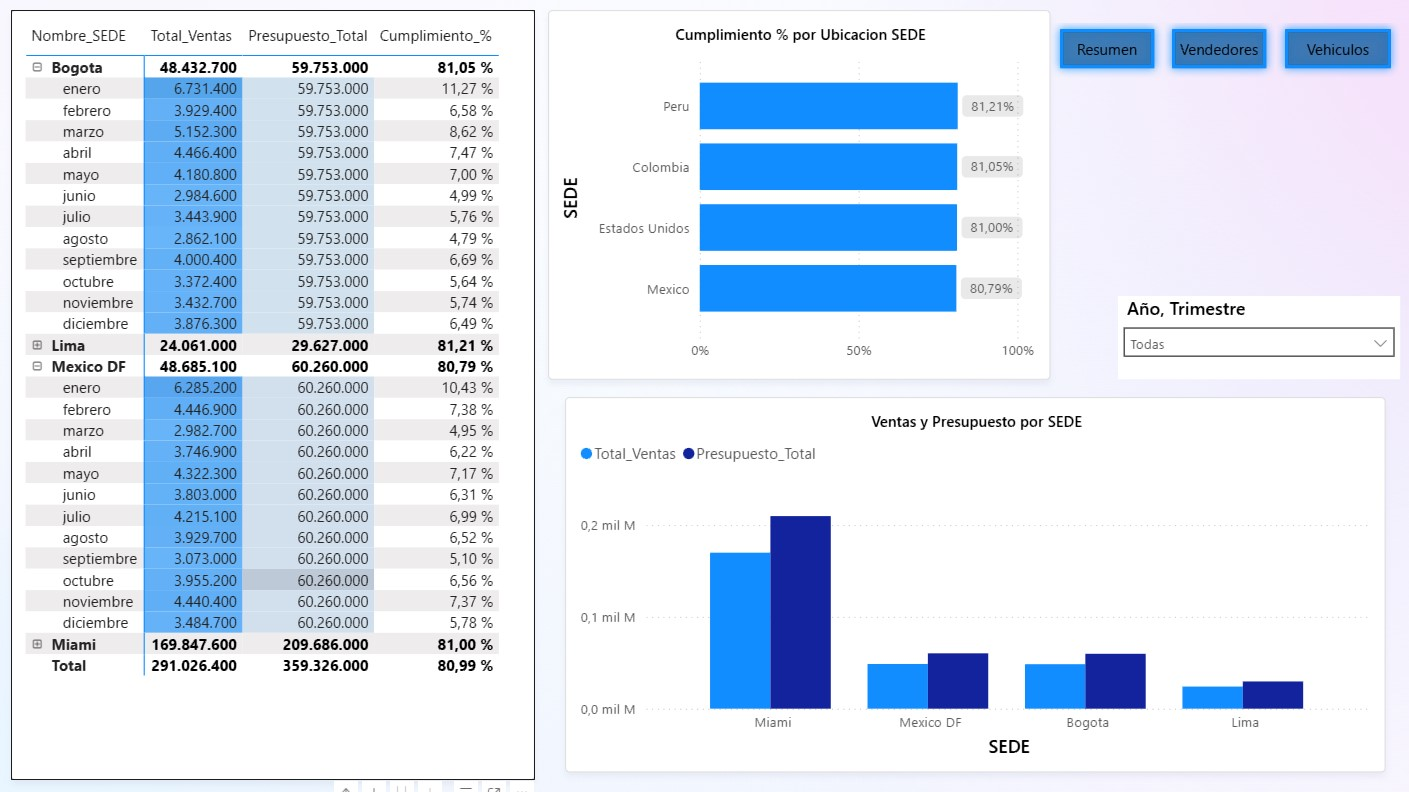

The dashboard page shown, as its layout file describes it:
{"tool":"powerbi","page":{"name":"SEDE_Presupuestos","canvas":[1280,720],"ordinal":2},"visuals":[{"type":"lineClusteredColumnComboChart","title":"Ventas y Presupuesto por SEDE","fields":{"Category":["SEDES.Nombre_SEDE"],"Y":["MEDIDAS.Total_Ventas","MEDIDAS.Presupuesto_Total"]},"box":[514.2,360.2,730.3,333.6],"z":0},{"type":"barChart","title":"Cumplimiento % por Ubicacion SEDE","fields":{"Category":["SEDES.Ubicacion_SEDE"],"Y":["MEDIDAS.Cumplimiento_%"]},"box":[499.2,16,447.4,328.7],"z":1000},{"type":"pivotTable","fields":{"Rows":["SEDES.Nombre_SEDE","Calendario.InicioMes.Variación.Jerarquía de fechas.Mes"],"Values":["MEDIDAS.Total_Ventas","MEDIDAS.Presupuesto_Total","MEDIDAS.Cumplimiento_%"]},"box":[21.7,15.8,465.8,684.9],"z":2000},{"type":"slicer","fields":{"Values":["Calendario.Fecha.Variación.Jerarquía de fechas.Año","Calendario.Fecha.Variación.Jerarquía de fechas.Trimestre"]},"box":[1005.6,270.4,250.7,74],"z":3000},{"type":"actionButton","title":"Vendedores","box":[946.6,24.5,99.8,50.9],"z":4000},{"type":"actionButton","title":"Vendedores","box":[1046.4,24.5,99.8,50.9],"z":5000},{"type":"actionButton","title":"Vendedores","box":[1146.3,24.5,110.2,50.9],"z":6000}]}

Visuals, with their boxes in screenshot pixels (x1, y1, x2, y2), scaled from the page's 1280x720 canvas onto the 1409x792 screenshot:
"Ventas y Presupuesto por SEDE" lineClusteredColumnComboChart: (566,396,1370,763)
"Cumplimiento % por Ubicacion SEDE" barChart: (550,18,1042,379)
pivotTable - SEDES.Nombre_SEDE x Calendario.InicioMes.Variación.Jerarquía de fechas.Mes: (24,17,537,771)
slicer - Calendario.Fecha.Variación.Jerarquía de fechas.Año x Calendario.Fecha.Variación.Jerarquía de fechas.Trimestre: (1107,297,1383,379)
"Vendedores" actionButton: (1042,27,1152,83)
"Vendedores" actionButton: (1152,27,1262,83)
"Vendedores" actionButton: (1262,27,1383,83)
